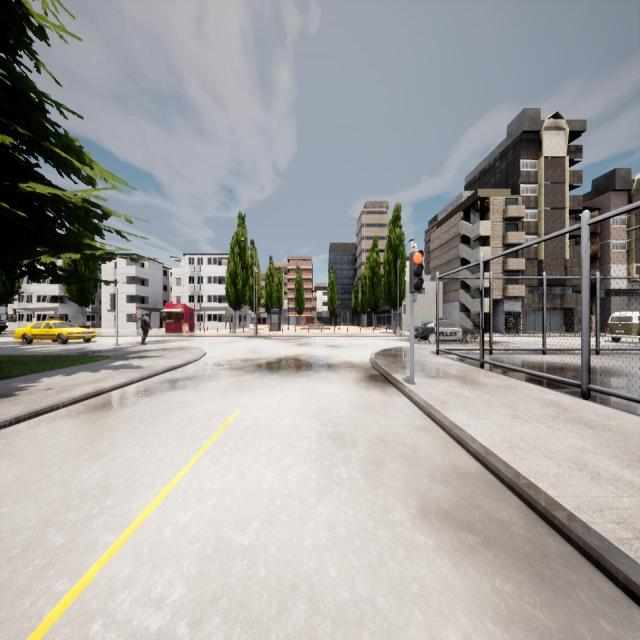Pedestrian: (141, 313, 151, 344)
Traffic_Signs: (136, 310, 141, 317)
Vehicle: (14, 321, 96, 343), (414, 321, 478, 344), (608, 311, 640, 341)
traffic_light: (411, 251, 423, 293), (404, 304, 406, 314)
